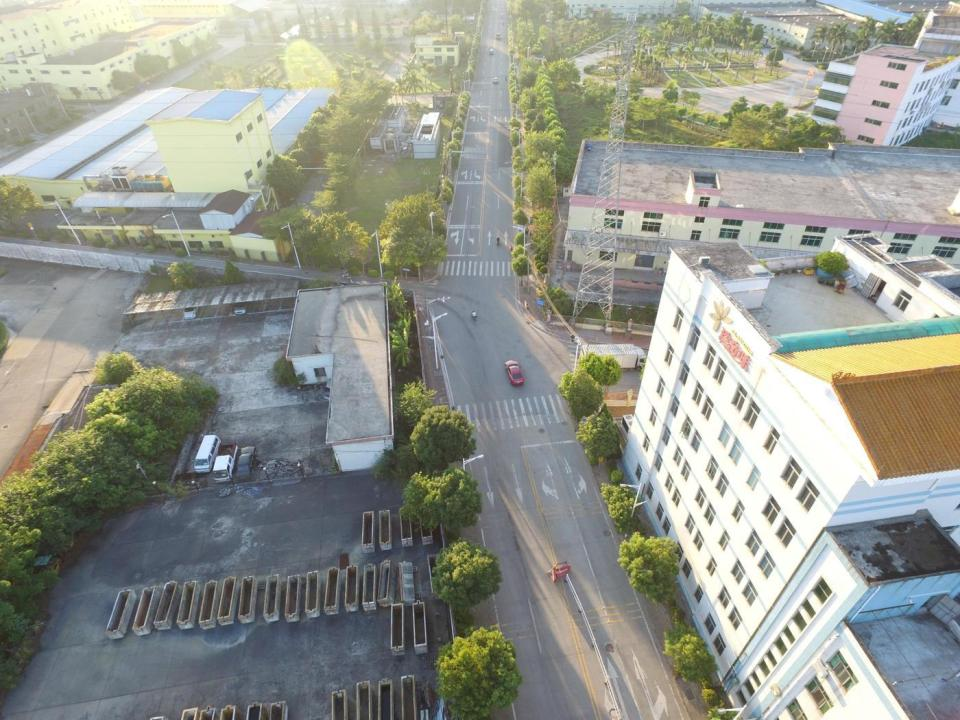car: (236, 446, 257, 480), (505, 359, 524, 386), (182, 296, 199, 320), (234, 296, 249, 316), (492, 76, 498, 84)
truck: (579, 343, 647, 372)
van: (194, 433, 221, 474)
